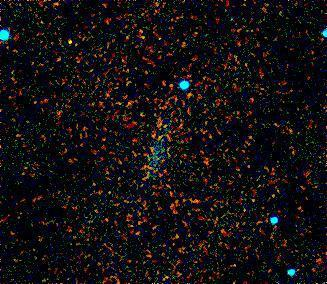star: (56, 24, 86, 54)
